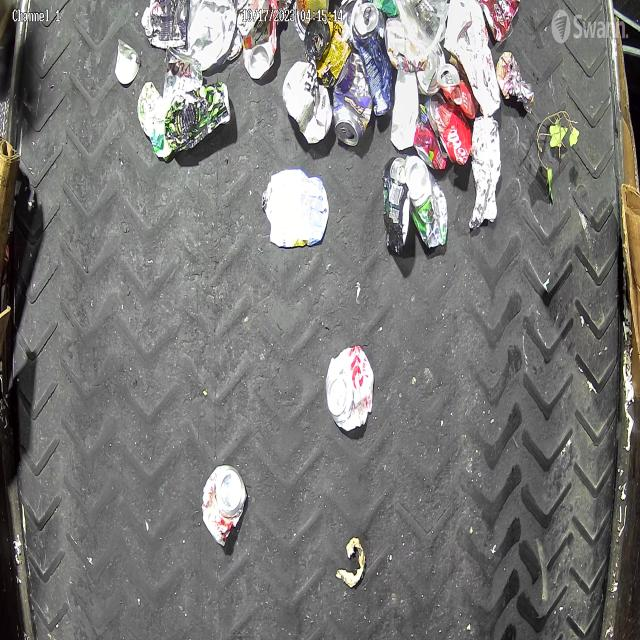can: (325, 350, 373, 444), (405, 156, 447, 248), (202, 465, 247, 547), (334, 53, 372, 146), (304, 14, 352, 85), (352, 2, 385, 77), (243, 34, 276, 77), (436, 64, 464, 104)
